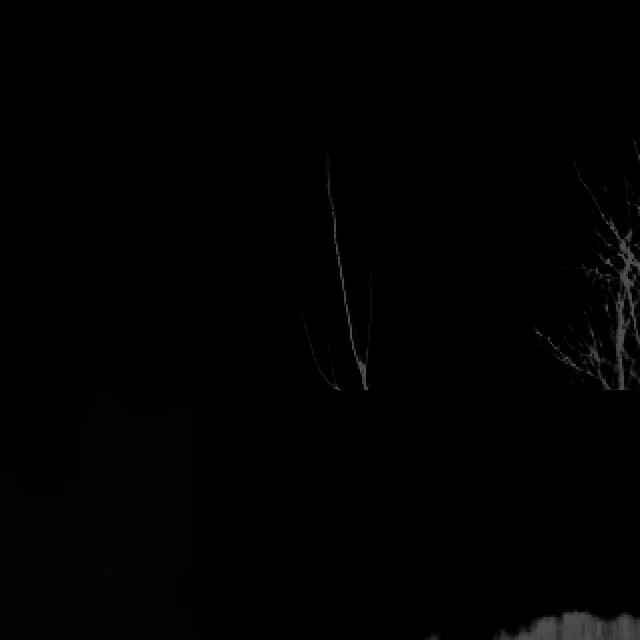0: (486, 155, 518, 188)
drone: (49, 626, 90, 640)
